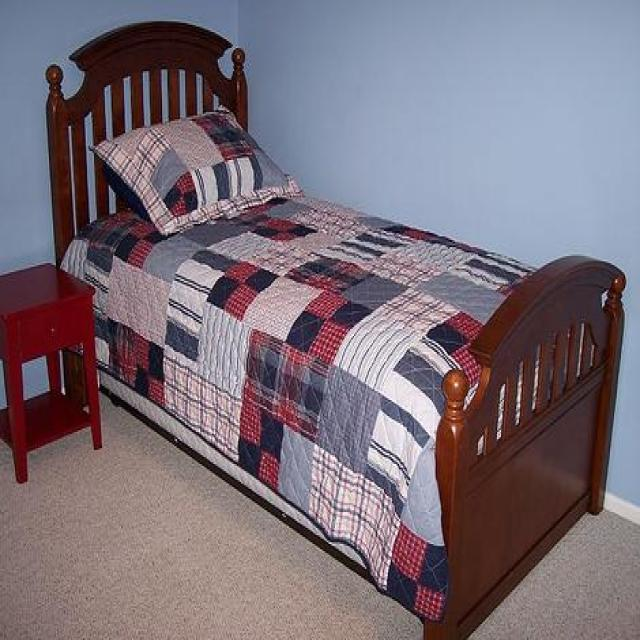bed: (44, 20, 626, 638)
